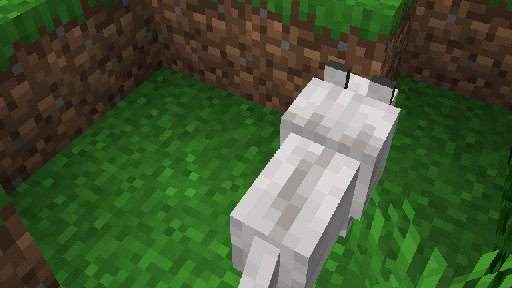wolf: (221, 58, 401, 288)
